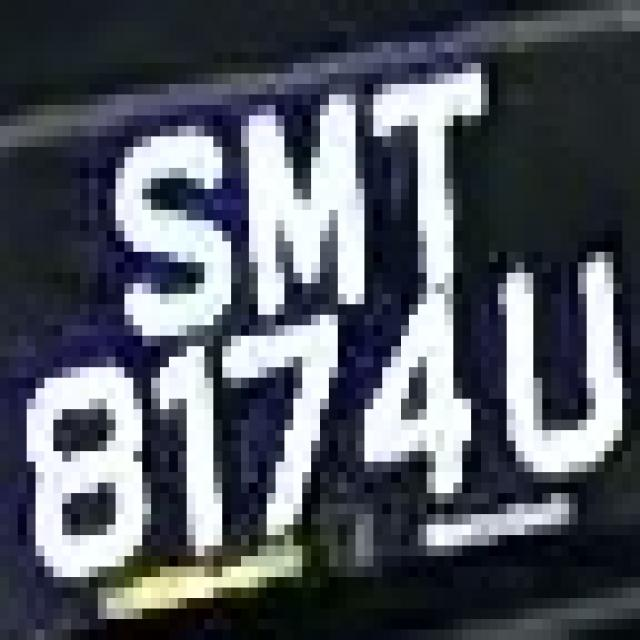1: (151, 314, 258, 588)
4: (347, 272, 489, 546)
7: (222, 304, 374, 546)
8: (0, 336, 160, 608)
M: (213, 116, 391, 347)
S: (107, 94, 231, 388)
T: (356, 53, 516, 304)
U: (471, 272, 631, 524)
